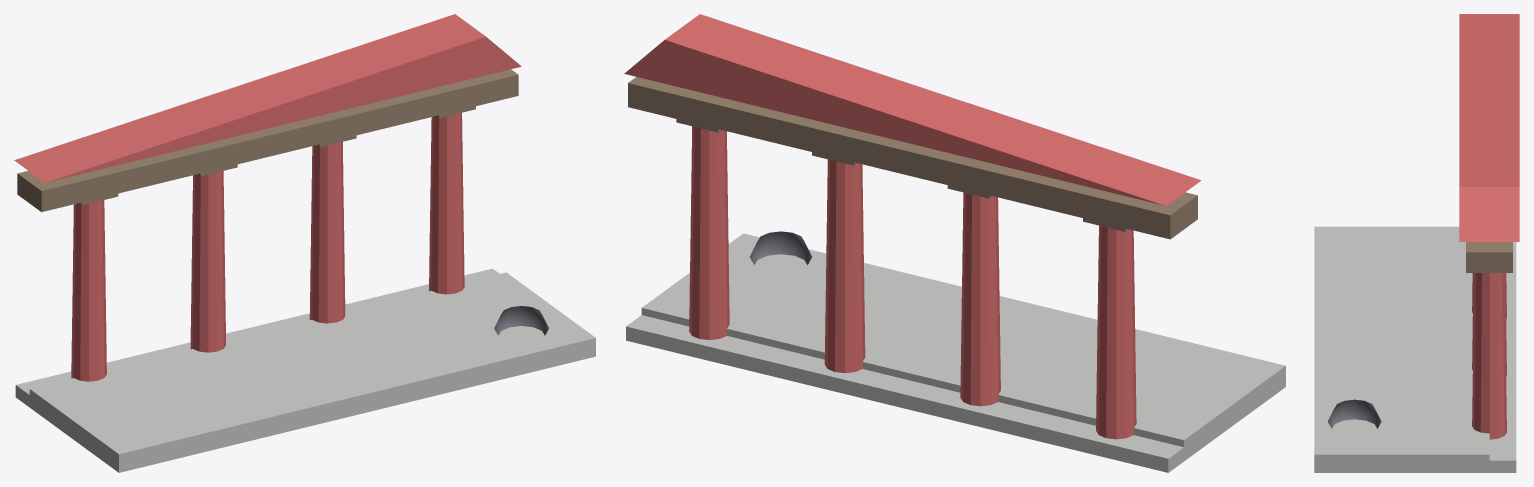
Rendered from martial-arts-dojo-and-fight-stages-temple-courtyard-se-9e26d645__18076.glb.
The picture shows the model from 3 angles, left to right: view 1: azimuth 30°, elevation 25°; view 2: azimuth 150°, elevation 25°; view 3: azimuth 270°, elevation 25°; orthographic projection. The views are drawn at different scales.
Visible parts, largest first — view 1: temple-courtyard-set; view 2: temple-courtyard-set; view 3: temple-courtyard-set.
Boxes of the visible parts, box(x1,y1,x2,y2) form: temple-courtyard-set: box(14, 14, 595, 472); temple-courtyard-set: box(624, 14, 1285, 472); temple-courtyard-set: box(1314, 14, 1519, 472).
Size of the model in its own units: 8 by 4.4 by 3.05.
